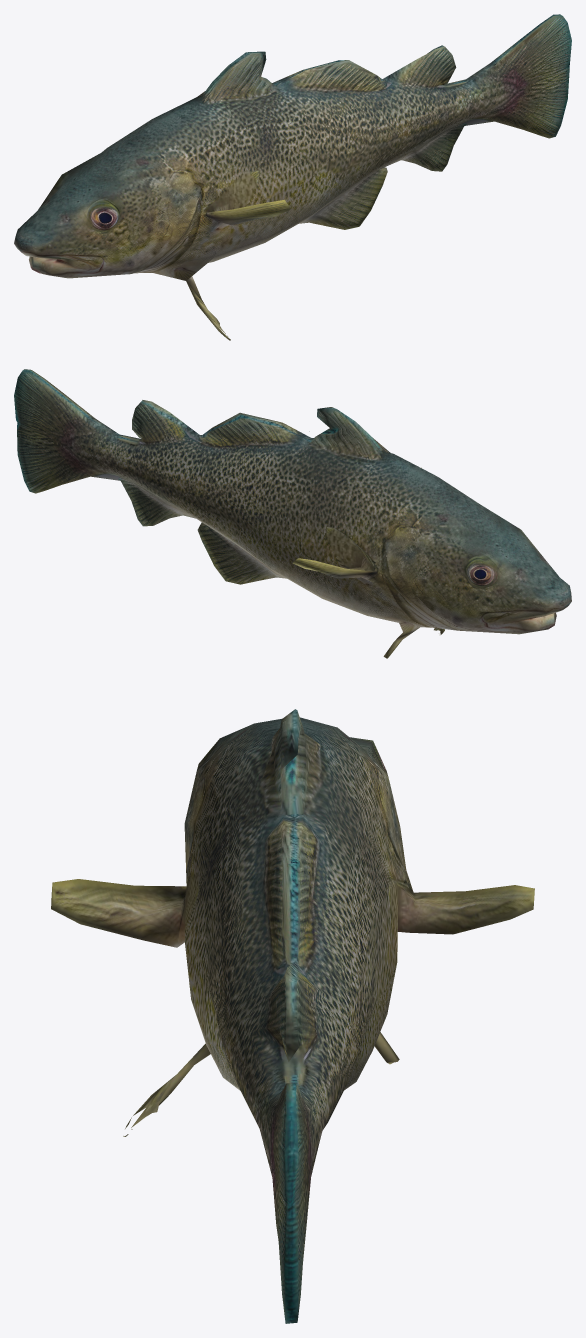
Rendered from cod.glb.
3 renders of one model, top to bottom at view 1: azimuth 30°, elevation 25°; view 2: azimuth 150°, elevation 25°; view 3: azimuth 270°, elevation 25°, orthographic. The views are drawn at different scales.
Parts seen in each view (by area): view 1: tripo_node_93a63758; view 2: tripo_node_93a63758; view 3: tripo_node_93a63758.
Boxes of the visible parts, x1,y1,x2,y2 form: tripo_node_93a63758: (14, 14, 571, 340); tripo_node_93a63758: (14, 369, 571, 658); tripo_node_93a63758: (51, 709, 534, 1323).
Size of the model in its own units: 97.2 by 40.68 by 36.81.
1 material, 1 textured.
